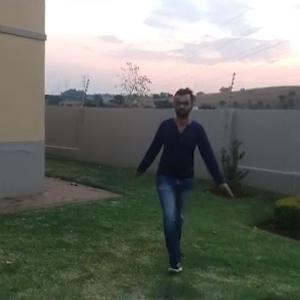land: (136, 88, 227, 277)
